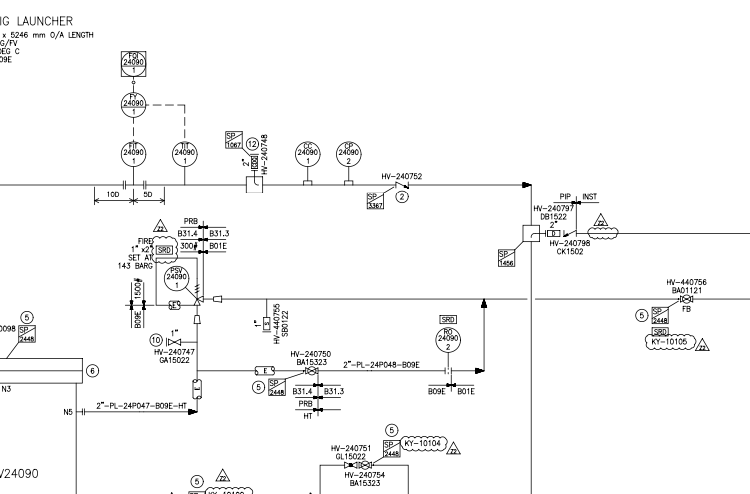Instrument: (166, 134, 205, 170), (117, 138, 151, 169), (116, 90, 151, 119), (432, 324, 465, 354), (293, 139, 323, 169), (334, 138, 363, 169), (163, 263, 191, 292)
Instrument-square: (118, 48, 150, 81)
